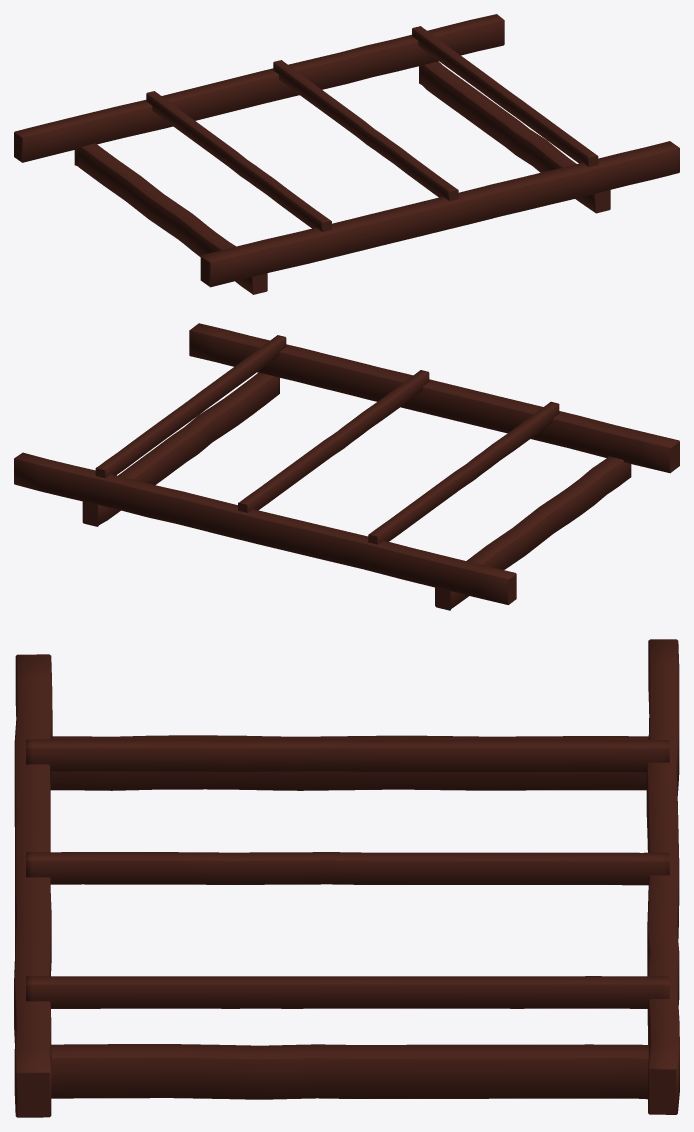
File: Beam_mdl.fbx
3 renders of one model, top to bottom at view 1: azimuth 30°, elevation 25°; view 2: azimuth 150°, elevation 25°; view 3: azimuth 270°, elevation 25°, orthographic. The views are drawn at different scales.
Parts seen in each view (by area): view 1: Cube.062, Cube.056, Cube.055, Cube.048, Cube.045, Cube.054; view 2: Cube.056, Cube.062, Cube.055, Cube.045, Cube.048, Cube.054; view 3: Cube.055, Cube.045, Cube.054, Cube.062, Cube.048, Cube.056.
Boxes of the visible parts, left/top/right/bottom form: Cube.062: left=200, top=141, right=679, bottom=287; Cube.056: left=14, top=14, right=504, bottom=162; Cube.055: left=146, top=60, right=458, bottom=231; Cube.048: left=74, top=143, right=267, bottom=294; Cube.045: left=419, top=61, right=610, bottom=213; Cube.054: left=412, top=26, right=598, bottom=166; Cube.056: left=14, top=452, right=516, bottom=604; Cube.062: left=189, top=323, right=679, bottom=473; Cube.055: left=238, top=370, right=559, bottom=544; Cube.045: left=82, top=372, right=279, bottom=526; Cube.048: left=435, top=456, right=631, bottom=610; Cube.054: left=95, top=335, right=286, bottom=477; Cube.055: left=26, top=739, right=669, bottom=885; Cube.045: left=51, top=1044, right=648, bottom=1099; Cube.054: left=26, top=976, right=669, bottom=1008; Cube.062: left=14, top=654, right=52, bottom=1117; Cube.048: left=50, top=735, right=648, bottom=790; Cube.056: left=646, top=639, right=679, bottom=1114.
Size of the model in its own units: 623 by 70.7 by 407.
